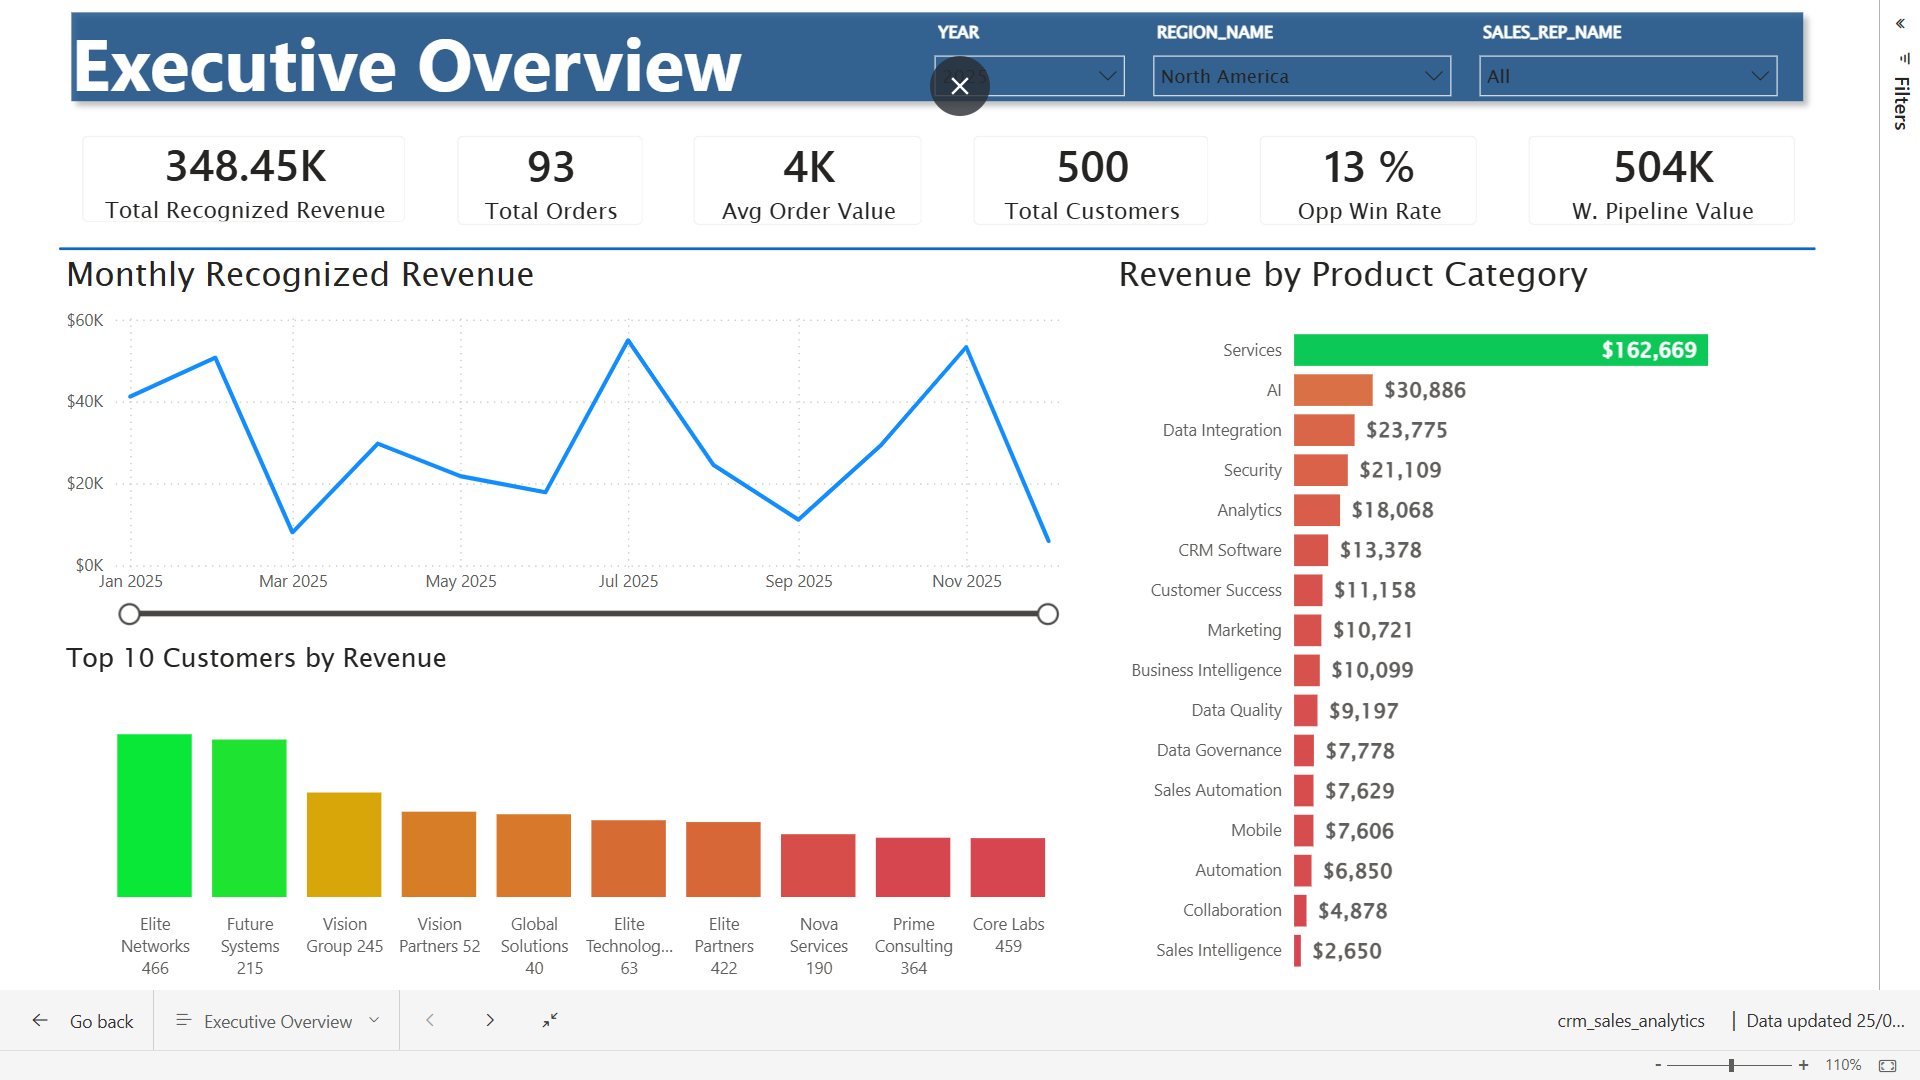

What the dashboard file says about the page in this screenshot:
{"tool":"powerbi","page":{"name":"Executive Overview","canvas":[1280,720],"ordinal":0},"visuals":[{"type":"group","id":"g1","title":"Groupe 1","box":[0,82.1,1280,99.1],"z":0},{"type":"cardVisual","fields":{"Data":["_Measures.Total Recognized Revenue"]},"box":[0,82.1,269.8,97.7],"z":0,"group":"g1"},{"type":"shape","box":[0,0,1277.5,82.6],"z":1000},{"type":"cardVisual","fields":{"Data":["_Measures.Total Orders"]},"box":[272.6,82.1,169.3,99.1],"z":1000,"group":"g1"},{"type":"cardVisual","fields":{"Data":["_Measures.Average Order Value"]},"box":[444.7,82.1,201,99.1],"z":2000,"group":"g1"},{"type":"lineChart","title":"Monthly Recognized Revenue","fields":{"Category":["DIM_DATES.MONTH_START_DATE"],"Y":["_Measures.Total Recognized Revenue"]},"box":[0,182,751,275.5],"z":2000},{"type":"cardVisual","fields":{"Data":["_Measures.Total Customers"]},"box":[648.4,82.1,205.1,99.1],"z":3000,"group":"g1"},{"type":"clusteredColumnChart","title":"Top 10 Customers by Revenue","fields":{"Category":["DIM_CUSTOMERS.CUSTOMER_NAME"],"Y":["_Measures.Total Recognized Revenue"]},"box":[0,465,751,255],"z":3000},{"type":"cardVisual","fields":{"Data":["_Measures.Opportunity Win Rate"]},"box":[856.3,82.1,192.7,99.1],"z":4000,"group":"g1"},{"type":"clusteredBarChart","title":"Revenue by Product Category","fields":{"Category":["DIM_PRODUCTS.PRODUCT_CATEGORY"],"Y":["_Measures.Total Recognized Revenue"]},"box":[765.1,182,515.2,538.2],"z":4000},{"type":"cardVisual","fields":{"Data":["_Measures.Weighted Pipeline Value"]},"box":[1051.5,82.1,228.5,99.1],"z":5000,"group":"g1"},{"type":"shape","box":[0,142.3,1277.7,78.2],"z":5000},{"type":"slicer","fields":{"Values":["DIM_DATES.YEAR"]},"box":[626.7,10.3,158.9,61.5],"z":6000},{"type":"slicer","fields":{"Values":["DIM_REGIONS.REGION_NAME"]},"box":[785.6,10.3,237.1,61.5],"z":7000},{"type":"slicer","fields":{"Values":["DIM_SALES_REPS.SALES_REP_NAME"]},"box":[1022.7,10.3,237.1,61.5],"z":8000}]}

Visuals, with their boxes on the page's 1280x720 design canvas (x1, y1, x2, y2). These are canvas units, not pixel positions in the 1920x1080 screenshot, which may show the page scaled, cropped or inside an application window:
"Groupe 1" group: left=0, top=82, right=1280, bottom=181
cardVisual - _Measures.Total Recognized Revenue: left=0, top=82, right=270, bottom=180
shape: left=0, top=0, right=1278, bottom=83
cardVisual - _Measures.Total Orders: left=273, top=82, right=442, bottom=181
cardVisual - _Measures.Average Order Value: left=445, top=82, right=646, bottom=181
"Monthly Recognized Revenue" lineChart: left=0, top=182, right=751, bottom=458
cardVisual - _Measures.Total Customers: left=648, top=82, right=854, bottom=181
"Top 10 Customers by Revenue" clusteredColumnChart: left=0, top=465, right=751, bottom=720
cardVisual - _Measures.Opportunity Win Rate: left=856, top=82, right=1049, bottom=181
"Revenue by Product Category" clusteredBarChart: left=765, top=182, right=1280, bottom=720
cardVisual - _Measures.Weighted Pipeline Value: left=1052, top=82, right=1280, bottom=181
shape: left=0, top=142, right=1278, bottom=220
slicer - DIM_DATES.YEAR: left=627, top=10, right=786, bottom=72
slicer - DIM_REGIONS.REGION_NAME: left=786, top=10, right=1023, bottom=72
slicer - DIM_SALES_REPS.SALES_REP_NAME: left=1023, top=10, right=1260, bottom=72
